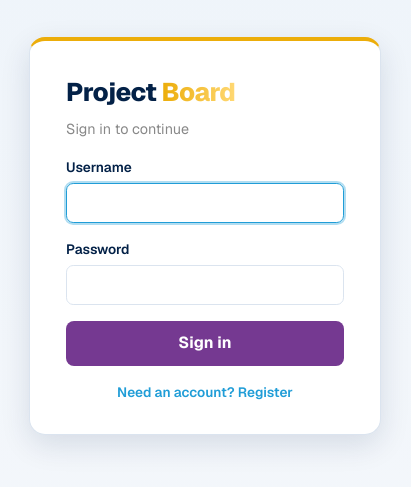
LoginForm › falls back to a generic message when the error carries no detail
Type "user" into the field labelled "Username".
click(205, 203); type("user")  # box [66,183,344,223]
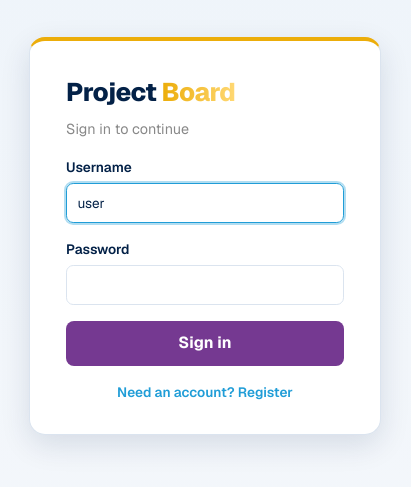
Type "wrong" into the password field labelled "Password".
click(205, 285); type("wrong")  # box [66,265,344,305]
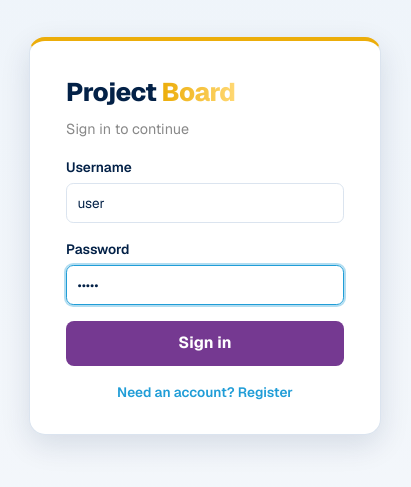
Click the button "Sign in".
click(205, 343)  # box [66,321,344,366]
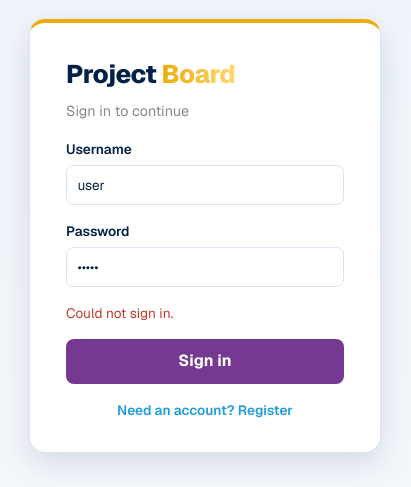
Expected: the message reads "Could not sign in.", [66,304,173,322]
